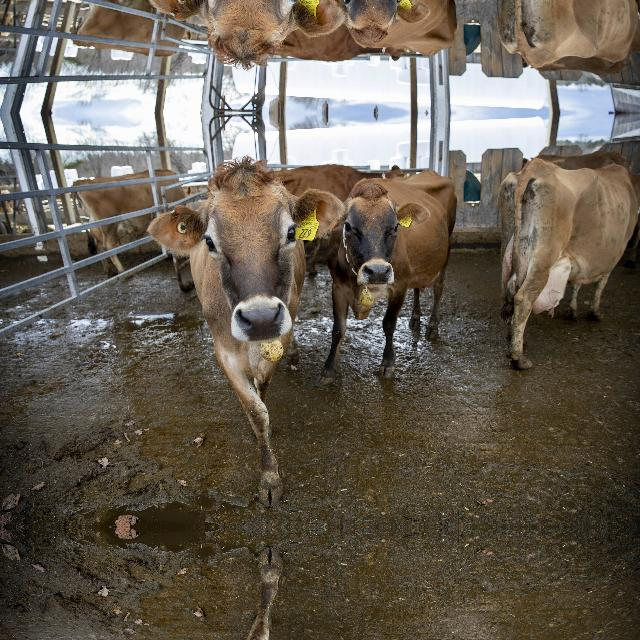obstacle: (168, 157, 322, 498), (497, 138, 640, 385), (337, 151, 467, 393), (168, 554, 322, 640), (497, 0, 640, 85), (168, 0, 322, 67), (337, 0, 467, 73)
